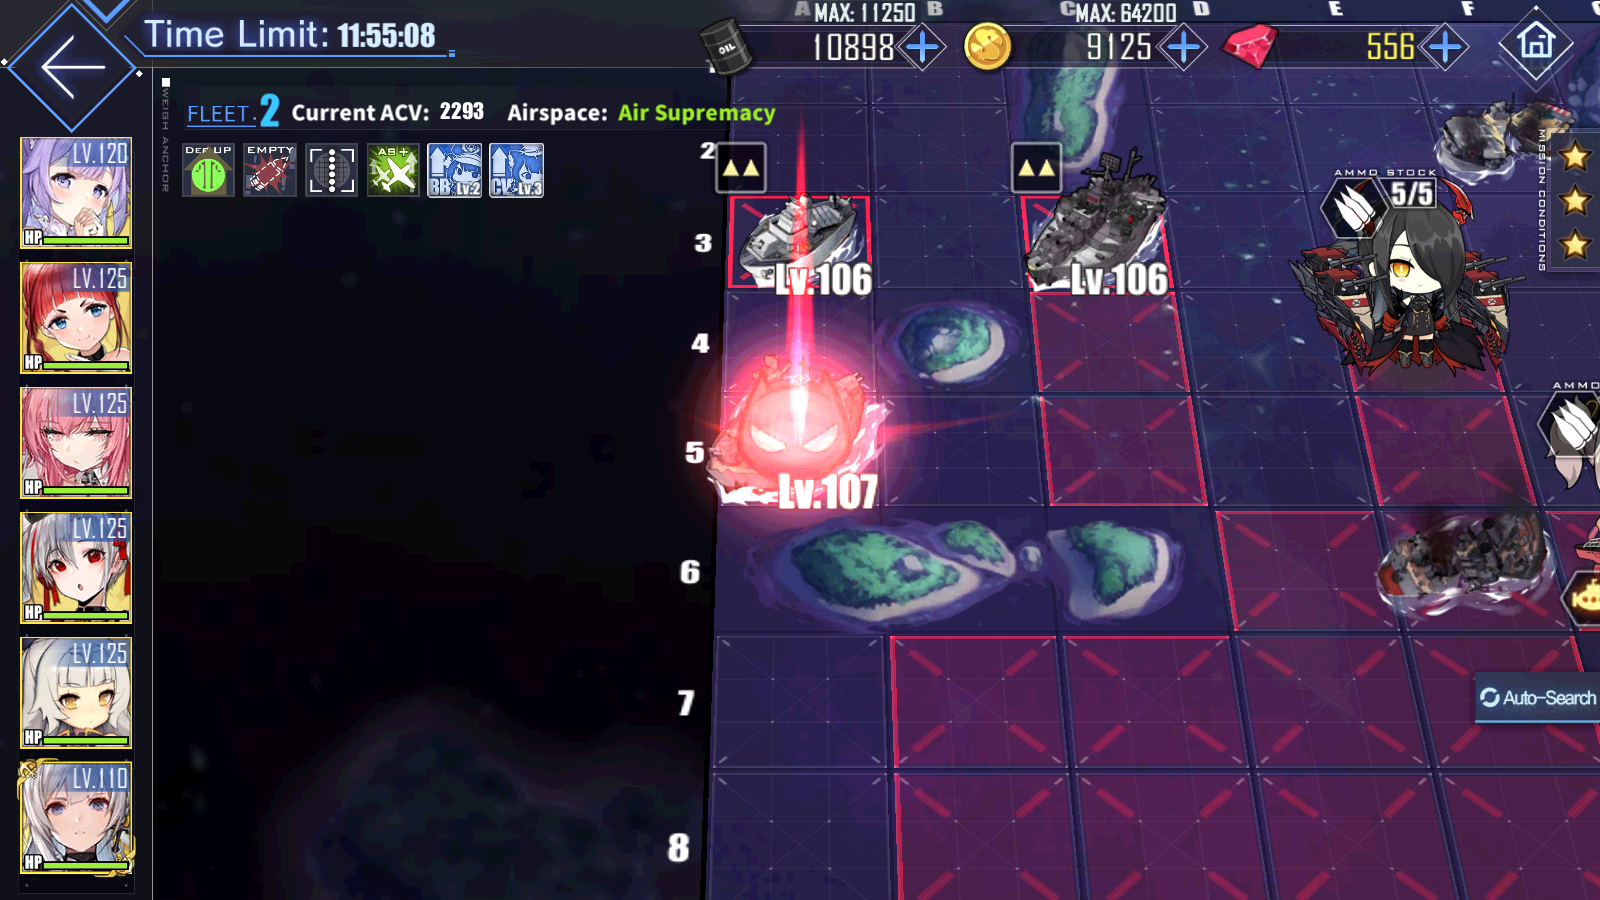ally: (1289, 169, 1505, 378), (1536, 376, 1600, 568)
boss: (719, 371, 878, 509)
enemy: (1010, 142, 1169, 296), (716, 144, 871, 295)
